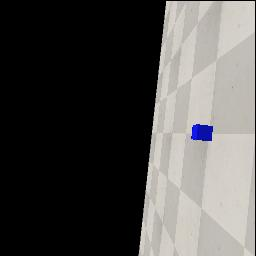box: (191, 124, 213, 141)
